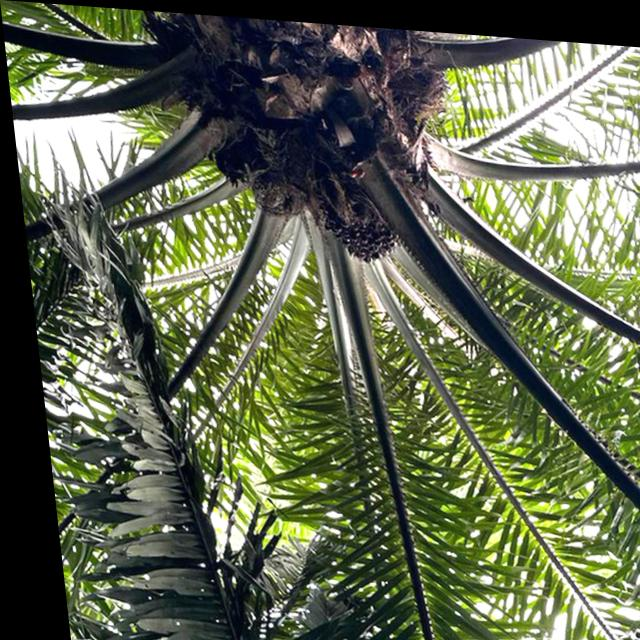ripe: (313, 185, 401, 273)
